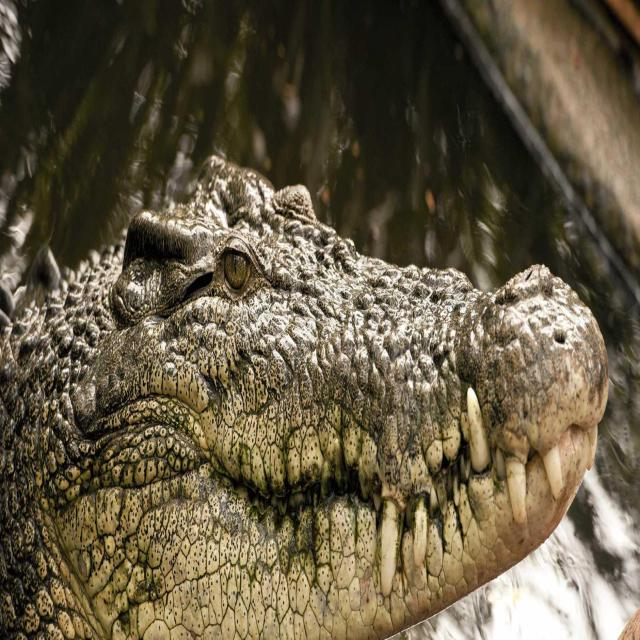crocodile: (0, 148, 610, 638)
